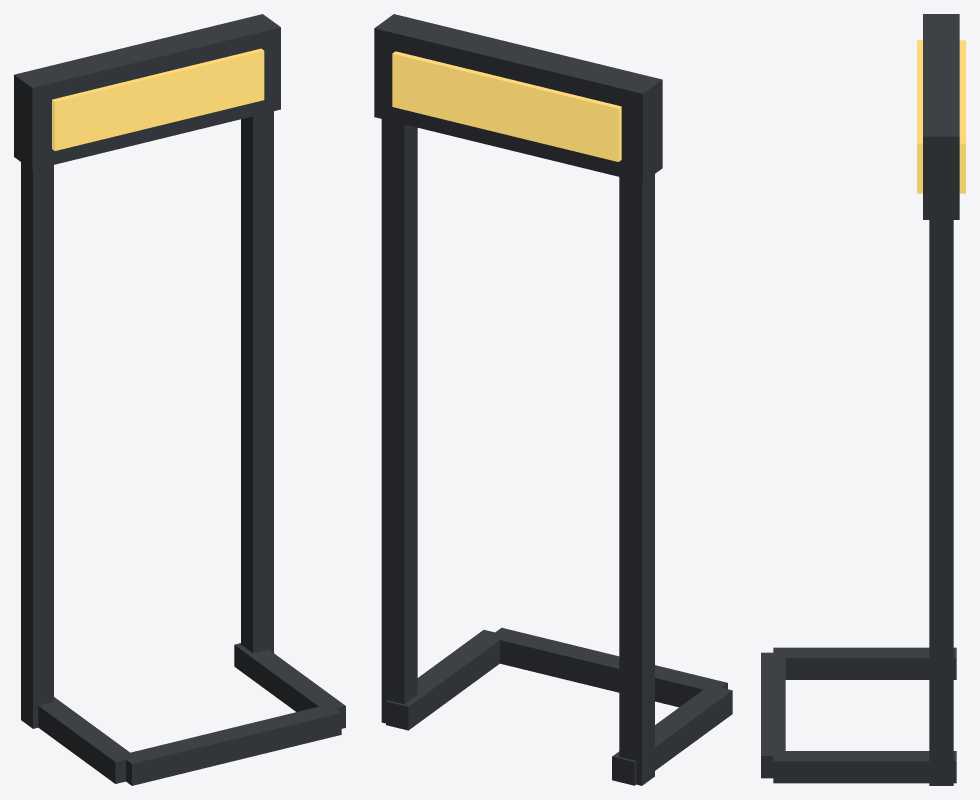
File: terminal-kiosk.glb
3 renders of one model, left to right at view 1: azimuth 30°, elevation 25°; view 2: azimuth 150°, elevation 25°; view 3: azimuth 270°, elevation 25°, orthographic. The views are drawn at different scales.
Visible parts, largest first — view 1: post, post.001, header, sign, strip_f, strip_s, strip_s.001; view 2: post.001, post, header, sign_b, strip_f, strip_s.001, strip_s; view 3: post.001, header, strip_s.001, strip_s, strip_f, sign_b, sign.
Part boxes in pixels (box(x1,y1,x2,y2)): post: box(21, 162, 53, 728); post.001: box(241, 111, 273, 653); header: box(14, 14, 280, 169); sign: box(52, 48, 264, 150); strip_f: box(125, 704, 341, 785); strip_s: box(38, 697, 129, 783); strip_s.001: box(234, 643, 345, 728); post.001: box(381, 119, 417, 723); post: box(619, 174, 654, 785); header: box(374, 14, 662, 182); sign_b: box(392, 51, 621, 161); strip_f: box(495, 627, 727, 707); strip_s.001: box(386, 630, 505, 730); strip_s: box(612, 686, 732, 785); post.001: box(929, 220, 953, 785); header: box(923, 14, 959, 219); strip_s.001: box(773, 751, 956, 783); strip_s: box(773, 647, 956, 679); strip_f: box(761, 652, 785, 778); sign_b: box(959, 40, 965, 193); sign: box(917, 40, 922, 193).
Bounding box in the file's own units: 0.95 × 2.35 × 0.67.
